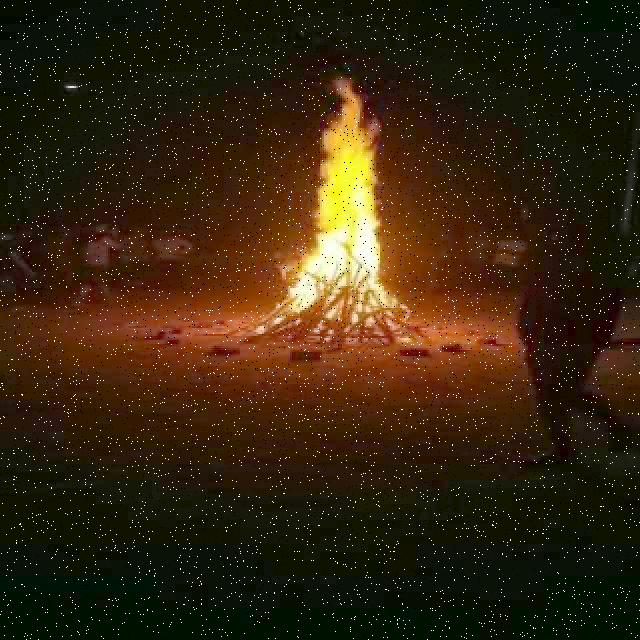fire: (278, 80, 410, 330)
